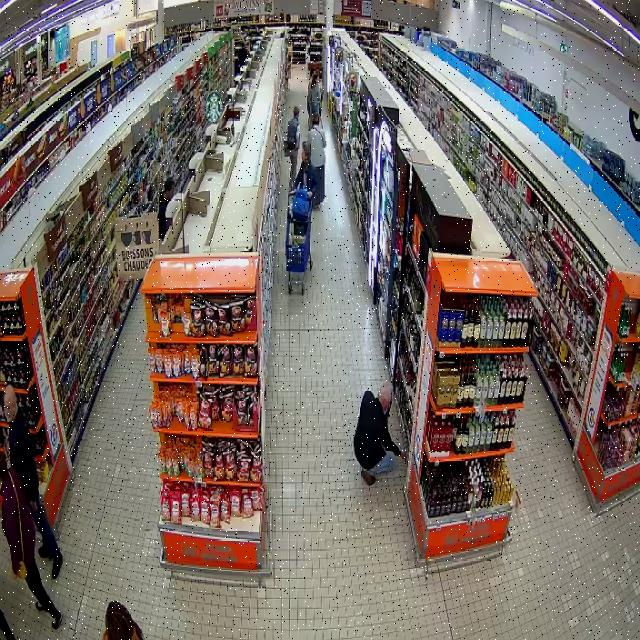bags: (8, 471, 28, 579)
hands: (30, 500, 37, 512), (400, 451, 408, 461), (307, 191, 314, 199)
person: (4, 386, 63, 578), (2, 452, 61, 628), (354, 383, 405, 484), (306, 113, 325, 206), (292, 149, 316, 199), (285, 106, 299, 188)
